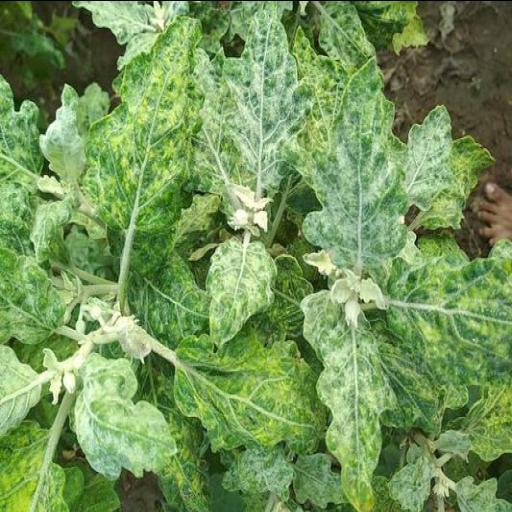Mosaic Virus: (80, 11, 206, 229), (300, 52, 412, 268), (298, 288, 402, 512), (172, 329, 324, 450), (384, 256, 512, 393), (74, 350, 180, 480), (206, 234, 278, 346), (402, 102, 456, 208)
